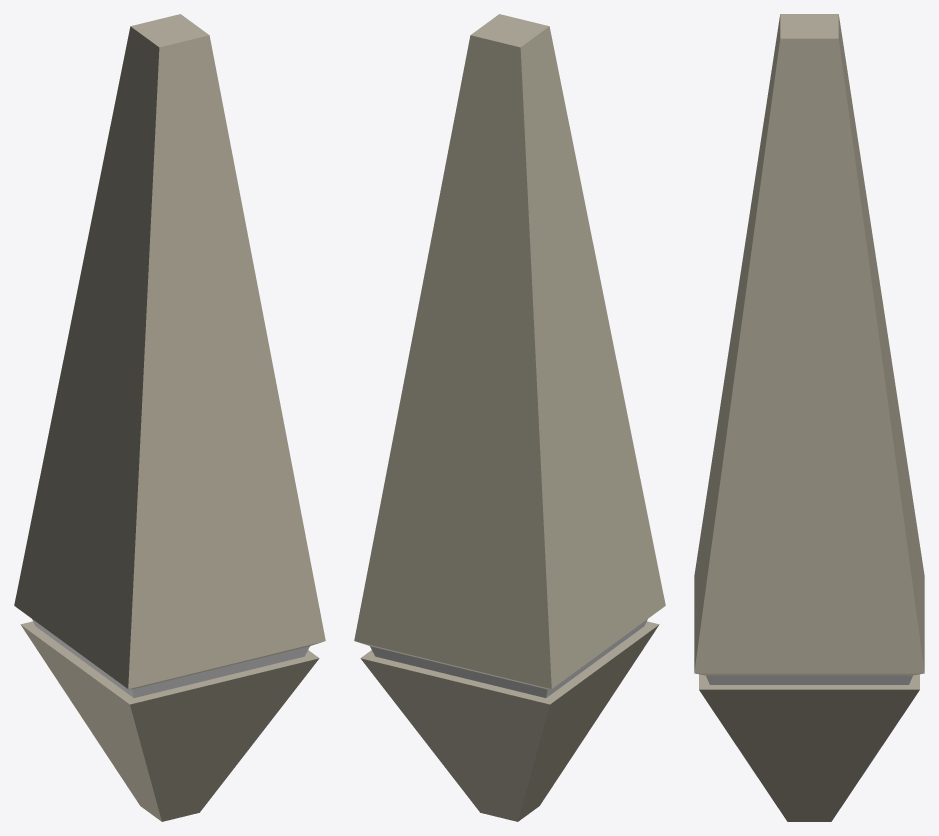
File: obelisk_1.fbx
3 views of the same model, side by side, from view 1: azimuth 30°, elevation 25°; view 2: azimuth 150°, elevation 25°; view 3: azimuth 270°, elevation 25° (orthographic).
Visible parts, largest first — view 1: obelisk_1; view 2: obelisk_1; view 3: obelisk_1.
Boxes of the visible parts, x1,y1,x2,y2 form: obelisk_1: (14, 14, 325, 821); obelisk_1: (354, 14, 665, 821); obelisk_1: (694, 14, 924, 821).
Size of the model in its own units: 2.39 by 9 by 2.39.
